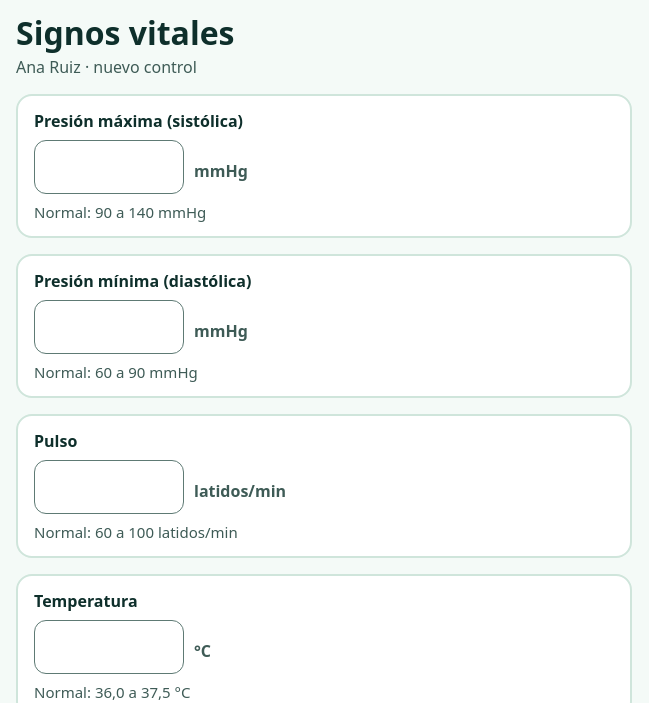
Test: Signos: an out-of-range value is explained and turns "Avisar a la familia" on
The image size is (649, 703).
In the field labelled "Presión máxima (sistólica)": [109, 167] box [34, 140, 184, 194], type "150"
(page scrolled)
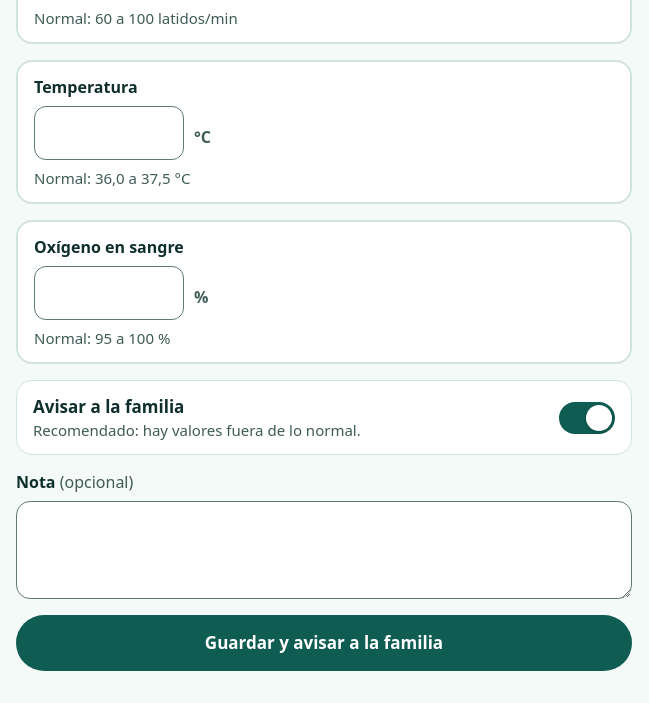
Expected: the button "Guardar y avisar a la familia" is shown, [16, 615, 632, 671]
